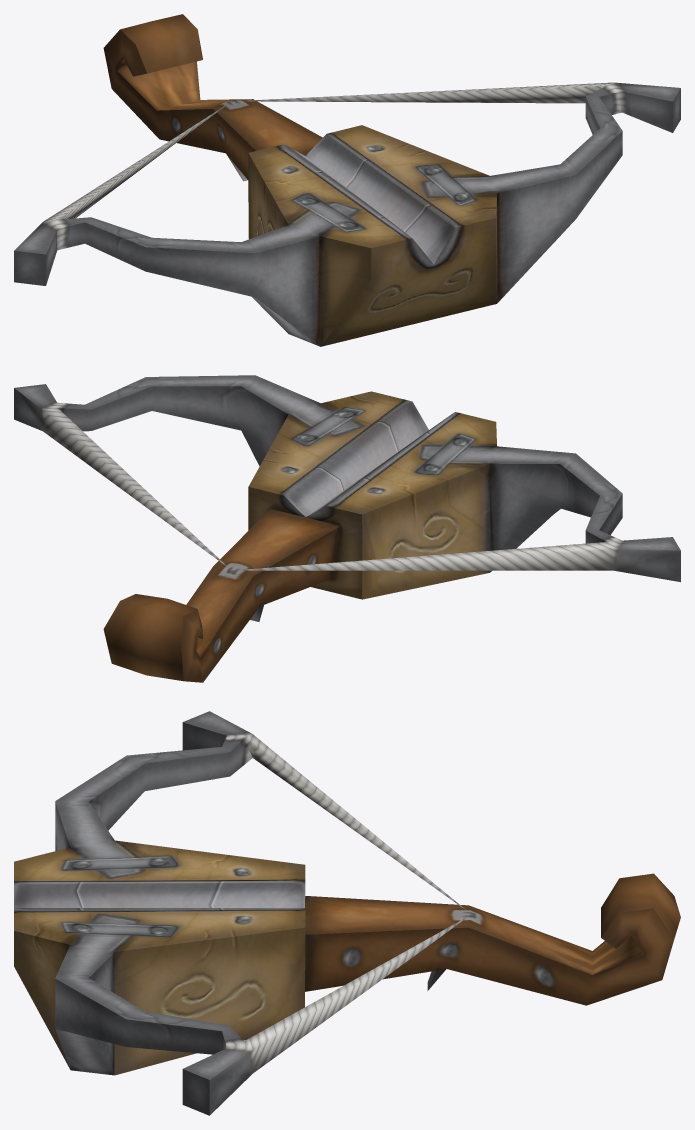
File: crossbow.glb
The picture shows the model from 3 angles, top to bottom: view 1: azimuth 30°, elevation 25°; view 2: azimuth 150°, elevation 25°; view 3: azimuth 270°, elevation 25°; orthographic projection. The views are drawn at different scales.
Visible parts, largest first — view 1: crossbow.001_Plane.002; view 2: crossbow.001_Plane.002; view 3: crossbow.001_Plane.002.
Boxes of the visible parts, x1,y1,x2,y2 form: crossbow.001_Plane.002: (14,14,680,346); crossbow.001_Plane.002: (14,375,680,682); crossbow.001_Plane.002: (14,711,680,1115).
Bounding box in the file's own units: 2.97 × 0.5032 × 2.27.
Materials: 1 (1 with a texture image).
